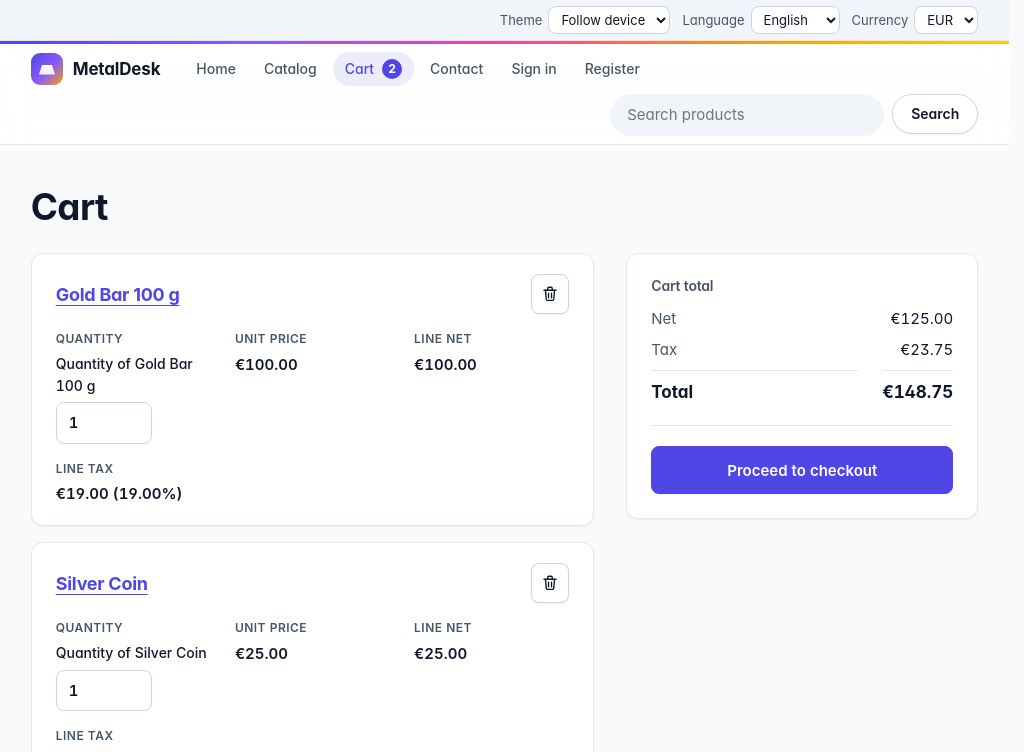
Test: removing a line › leaves the line when cancelled, and returns focus to the button that opened it
Click the button named "Remove Gold Bar 100 g": {"x": 550, "y": 294} 531,274 -> 569,314
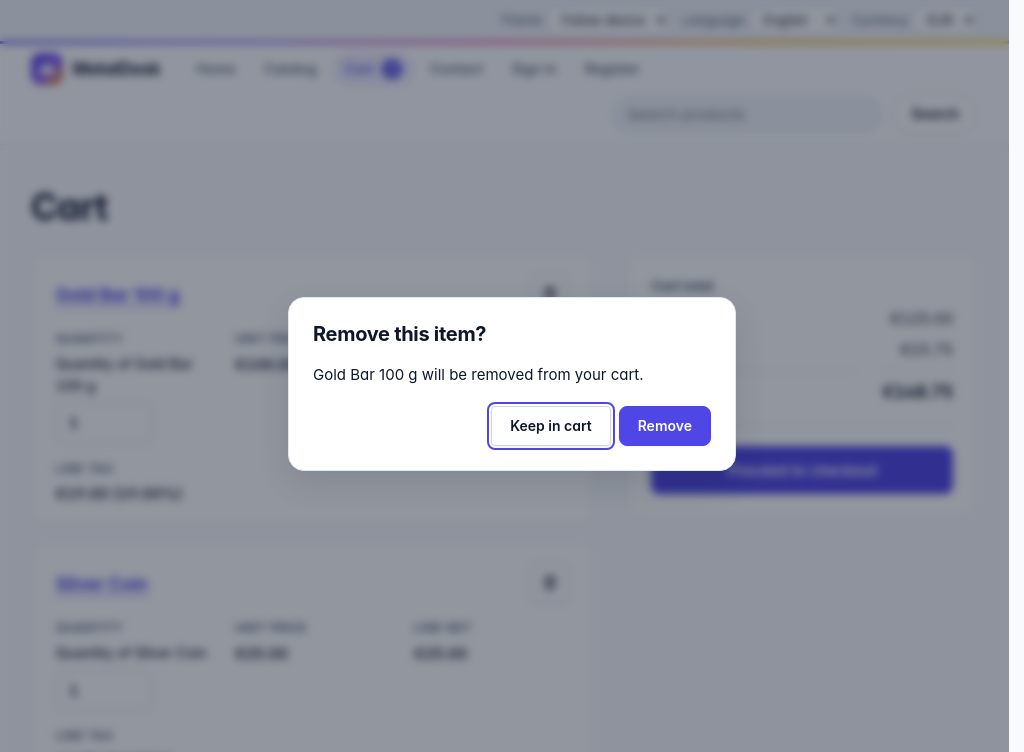
Click the button "Keep in cart": {"x": 551, "y": 426} 491,406 -> 611,446
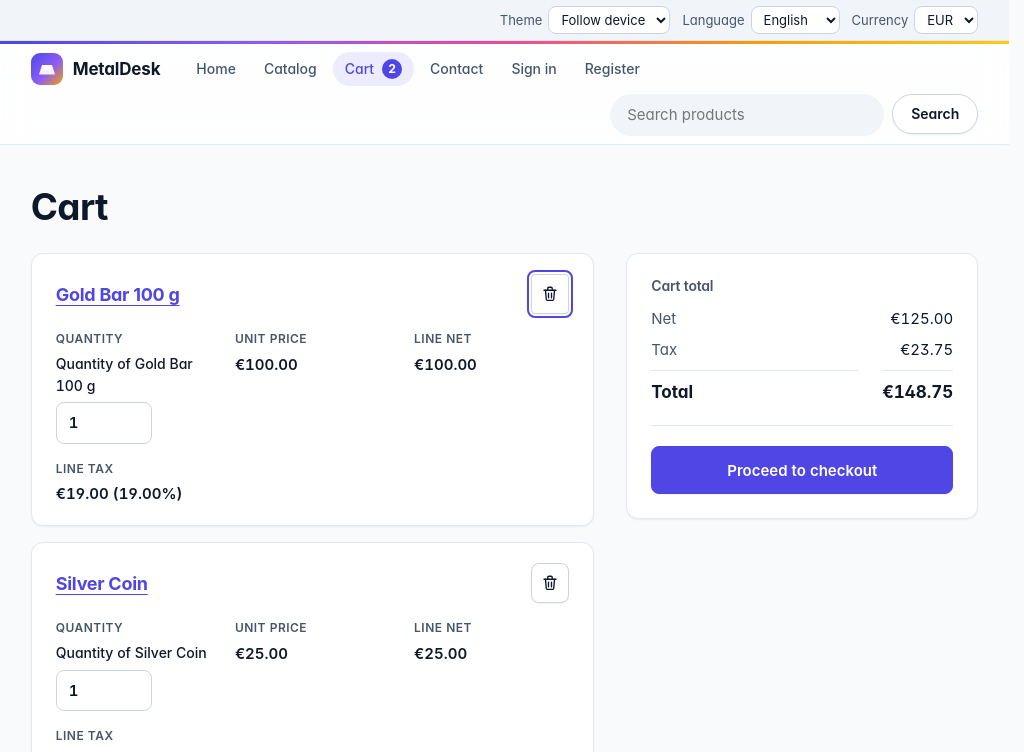
expect the dialog is gone: met
